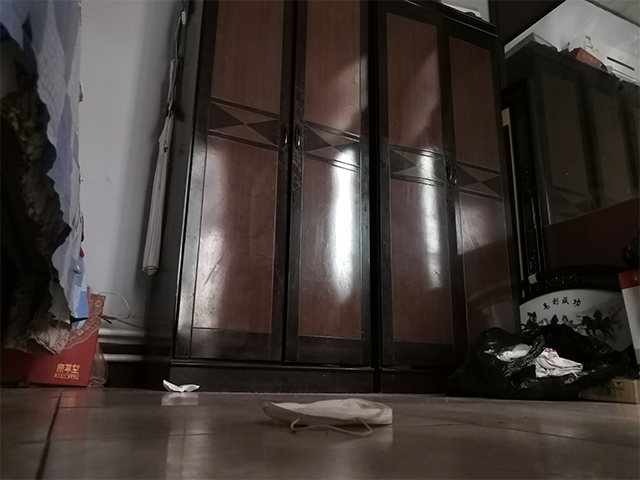cabinet: (138, 1, 521, 394)
